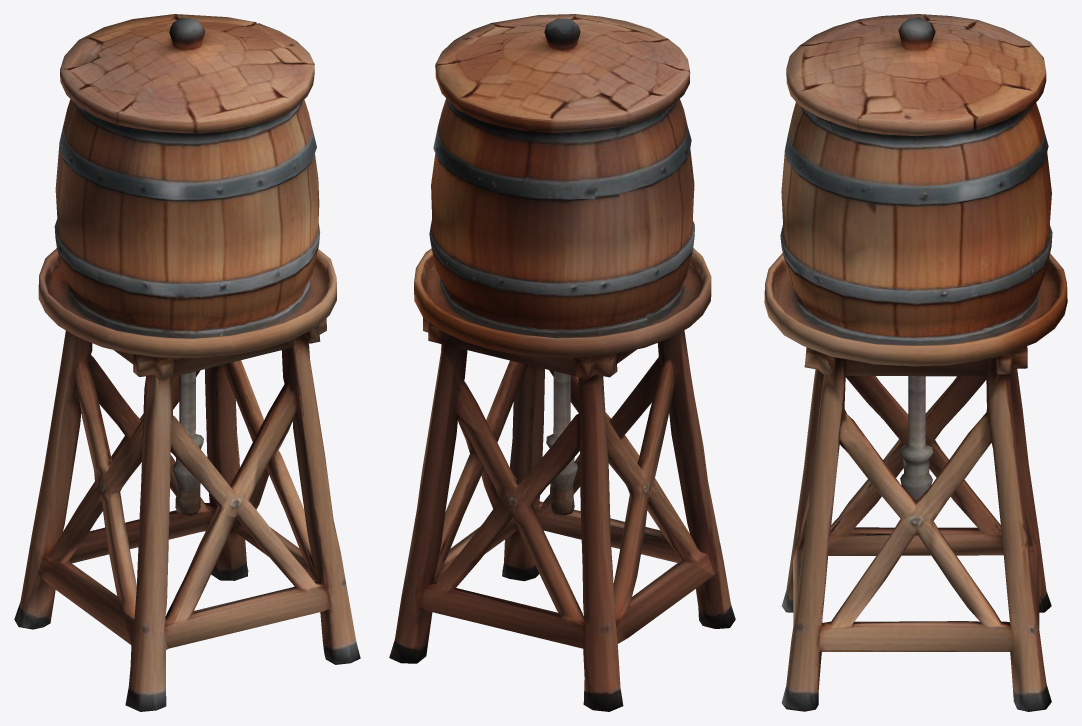
The model's file is water_tower.glb.
3 views of the same model, side by side, from view 1: azimuth 30°, elevation 25°; view 2: azimuth 150°, elevation 25°; view 3: azimuth 270°, elevation 25° (orthographic). The views are drawn at different scales.
Parts seen in each view (by area): view 1: geometry_0; view 2: geometry_0; view 3: geometry_0.
Part boxes in pixels (<box>): geometry_0: <box>14,14,360,711</box>; geometry_0: <box>389,14,735,711</box>; geometry_0: <box>764,14,1067,711</box>.
Size of the model in its own units: 3.04 by 7 by 3.03.
Materials: 1 (1 with a texture image).
